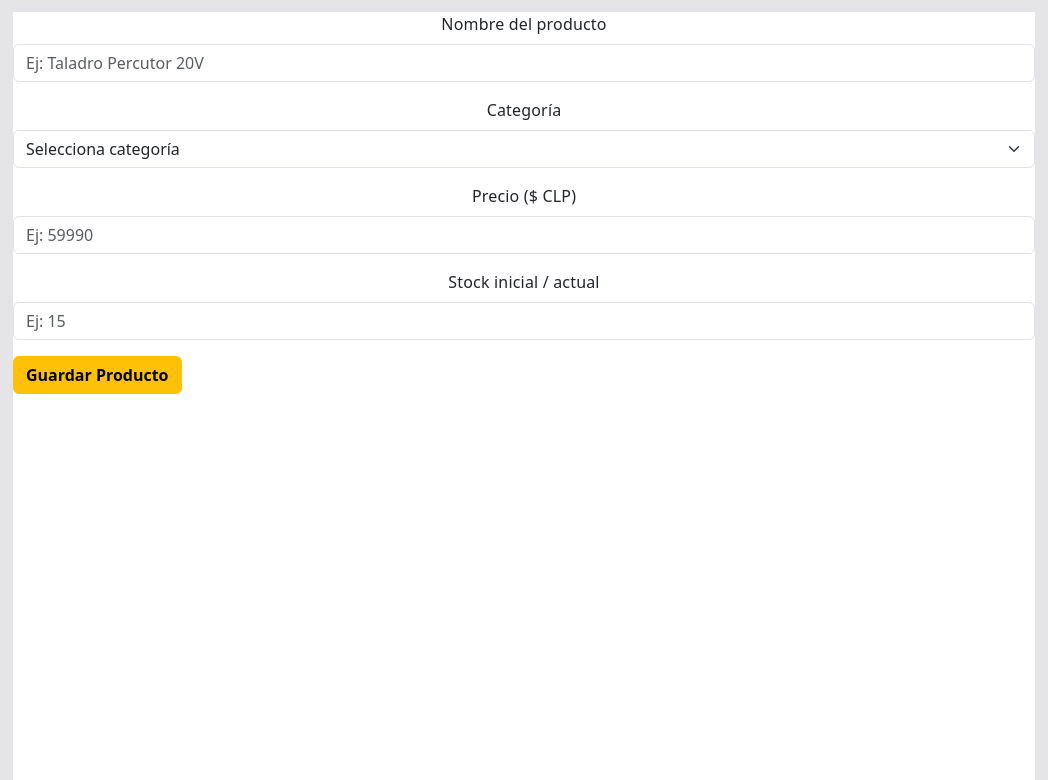
Scenario: Formulario de productos › rechaza un producto sin nombre ni categoria
Click the button "Guardar Producto" at (97, 375), box [13, 356, 182, 394]
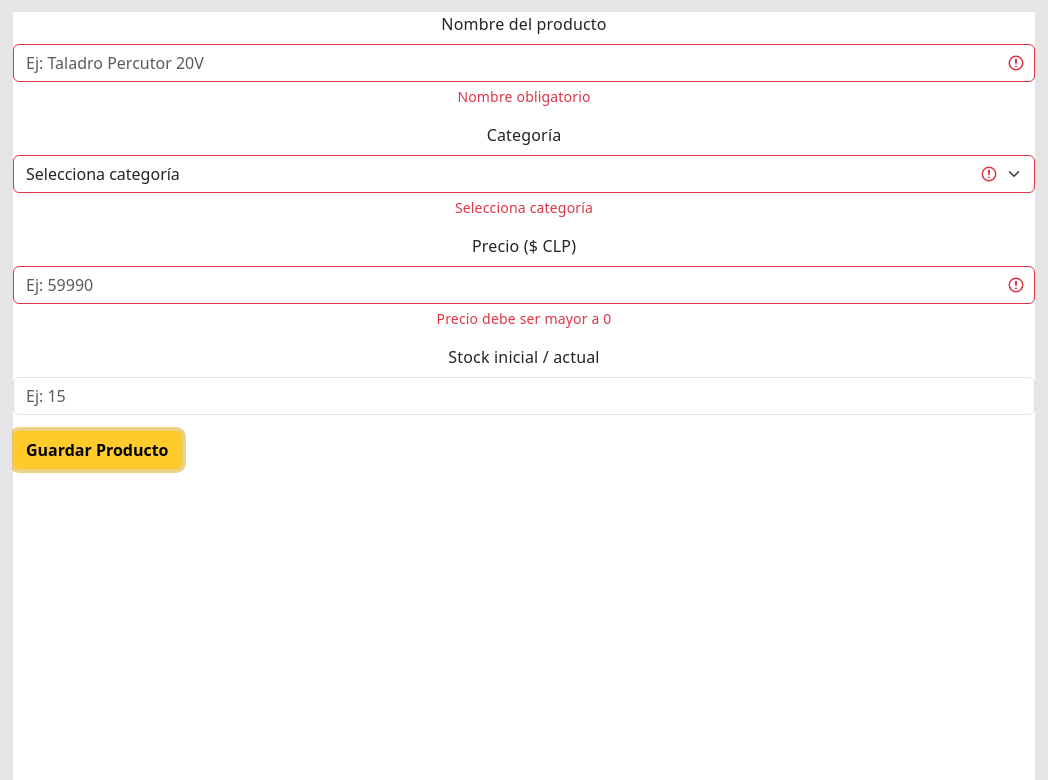
Result: the text "Nombre obligatorio" is shown at [457, 87, 591, 106]
Result: the text "Selecciona categoría" is shown 2 times
